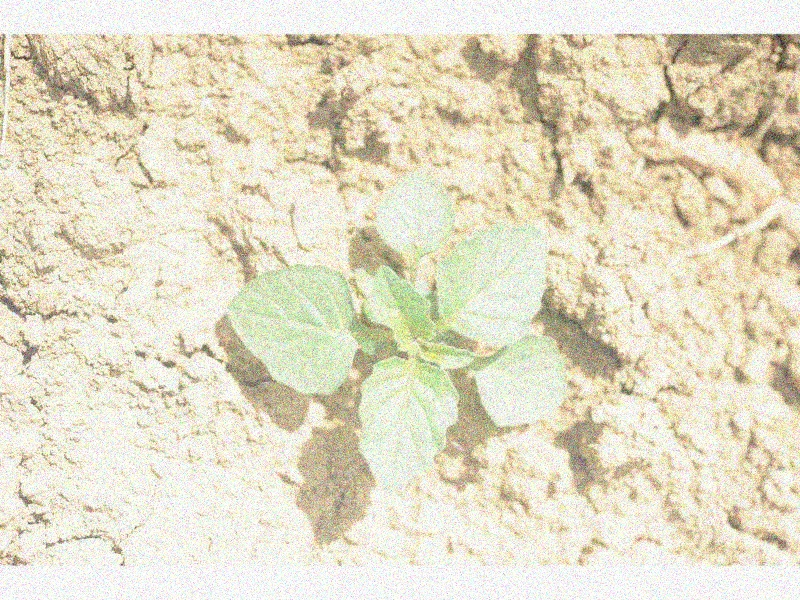nightshade: (227, 168, 565, 494)
